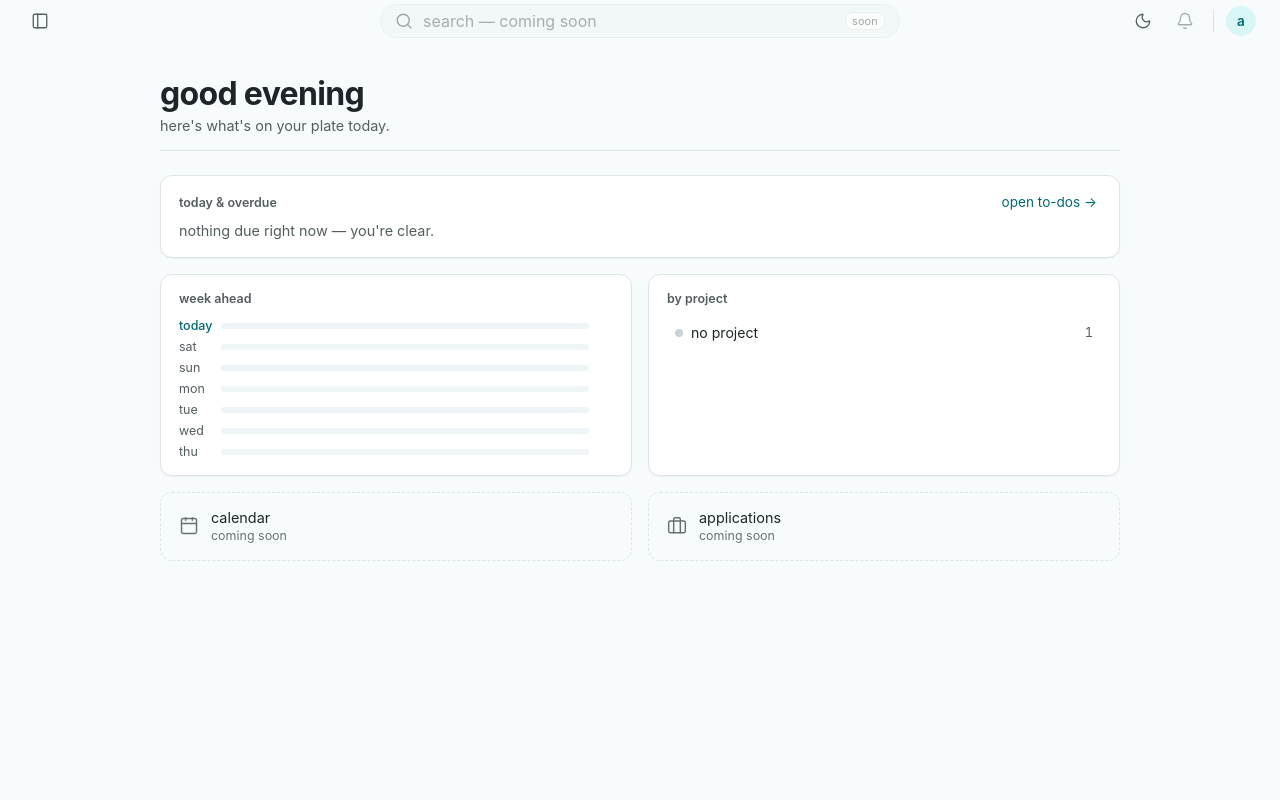
it: TodoDashboard › toggles a task between open and done
What coordinates should you click on to do the following:
click the button named "toggle sidebar"
I would click on:
 (40, 21)
Its box is [24,5,56,37].
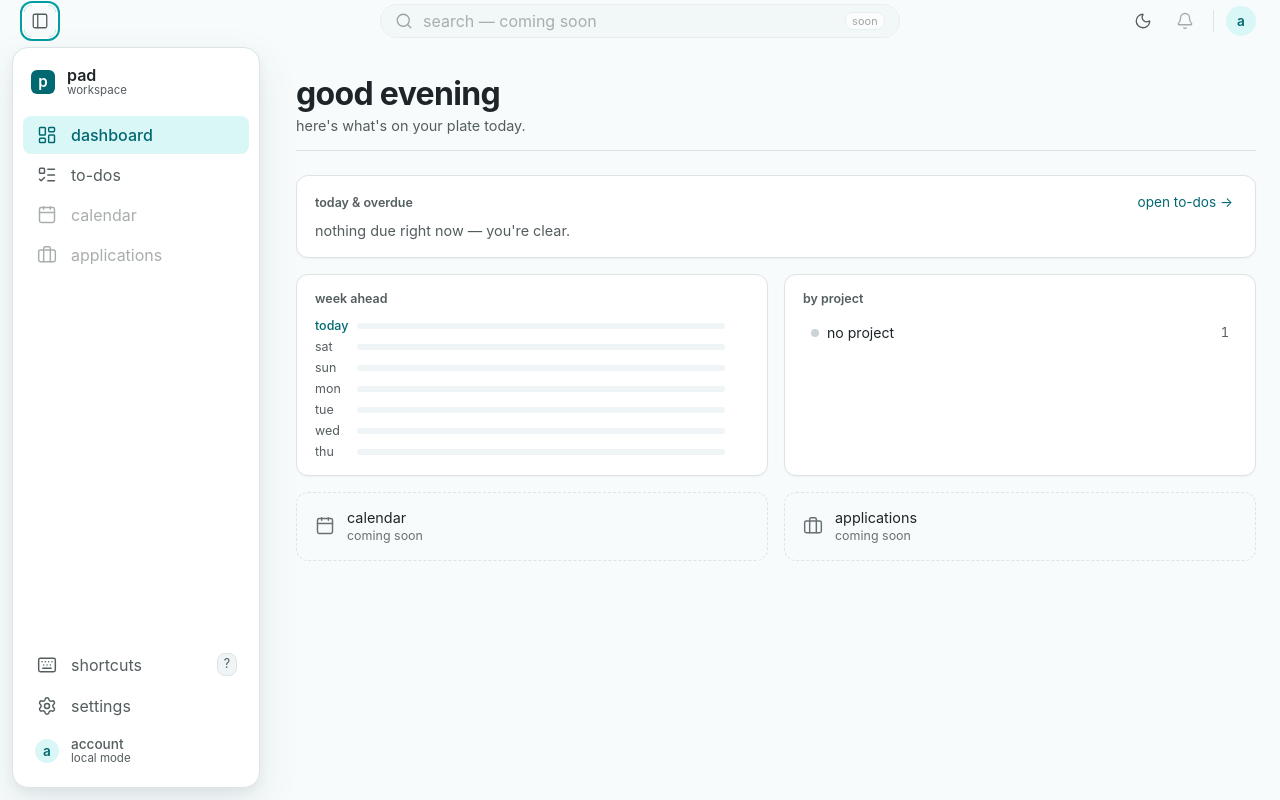
What coordinates should you click on to do the following:
click the button "to-dos"
I would click on:
 (136, 175)
Its box is [23,156,249,194].
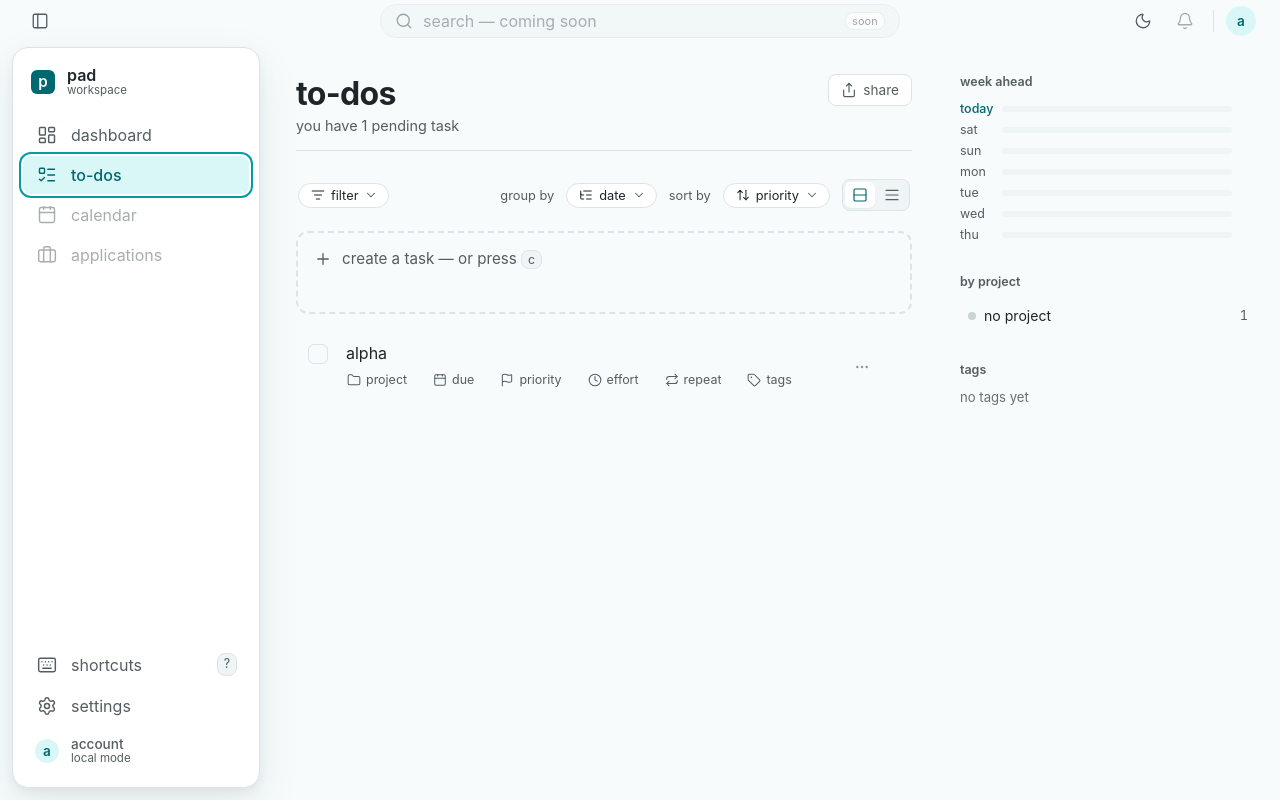
What coordinates should you click on to do the following:
click the checkbox named "mark done"
I would click on:
 (318, 354)
Its box is [308,344,328,364].
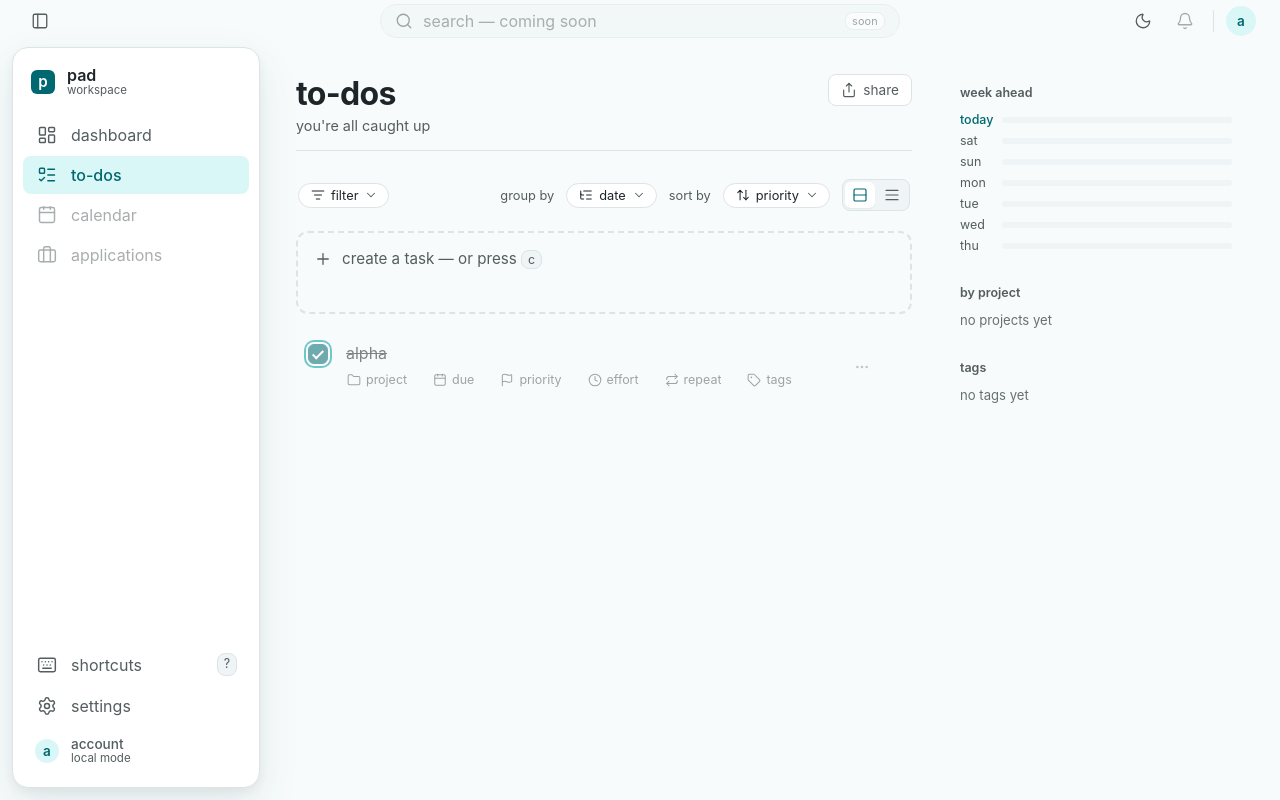
Result: the checkbox named "mark open" is shown at [308,344,328,364]
Result: the text "you're all caught up" is shown at [296,117,430,134]
